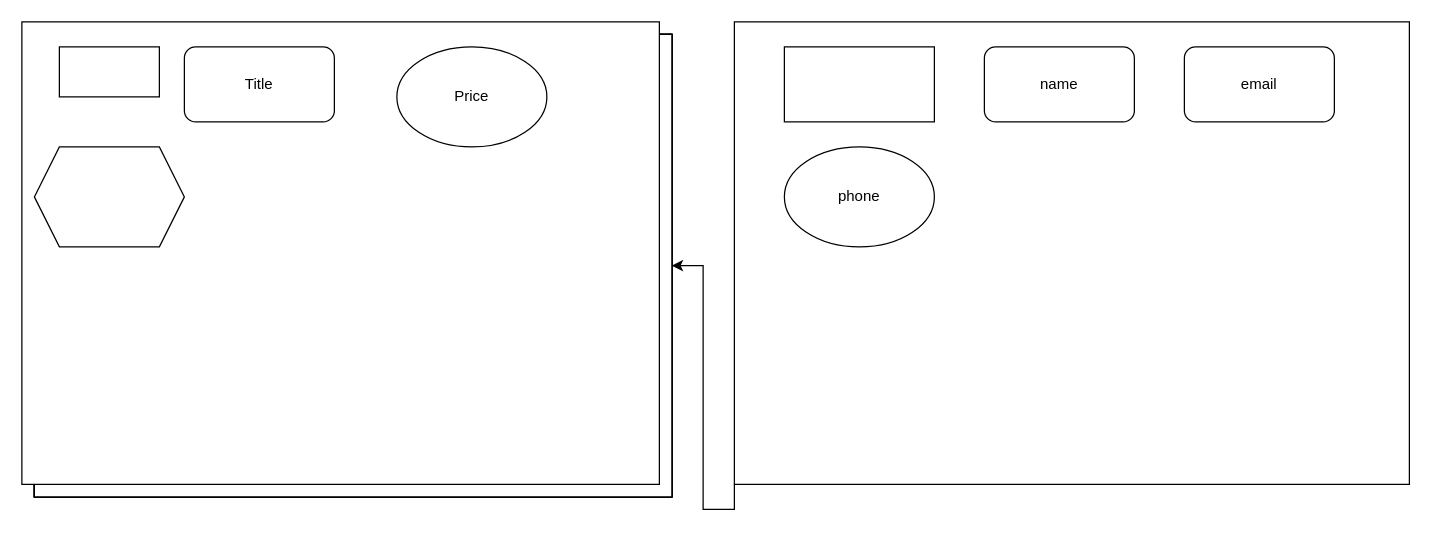
Image size: 1431x541. Some labels were removed from this diagram. Here are the shapes that lost their labels. From the top down, the box of each, then its label:
(58, 46, 159, 97): book_id
(783, 46, 934, 122): customer_id
(33, 146, 184, 247): publication_date
